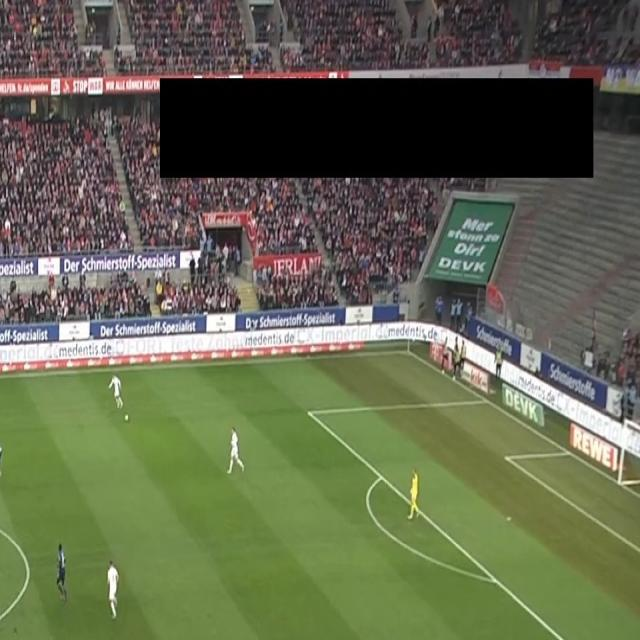ball: (124, 412, 130, 423)
